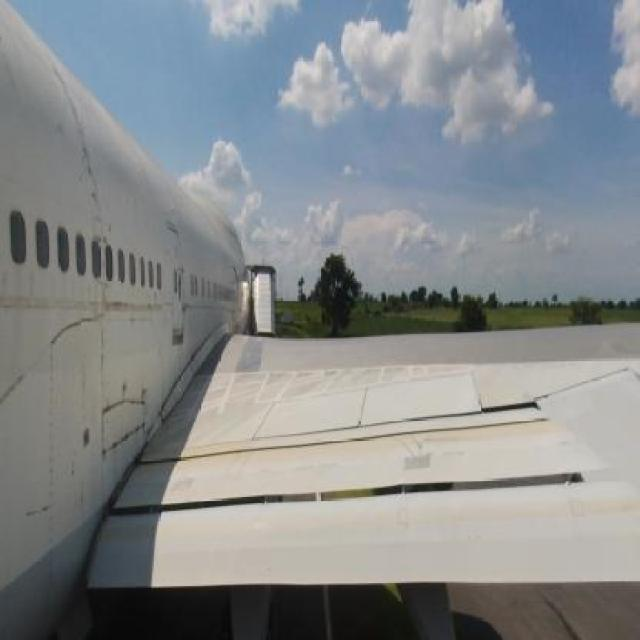Missing-Rivet: (98, 429, 158, 473)
Rust: (86, 296, 145, 326)
Scartch: (78, 144, 117, 228)
